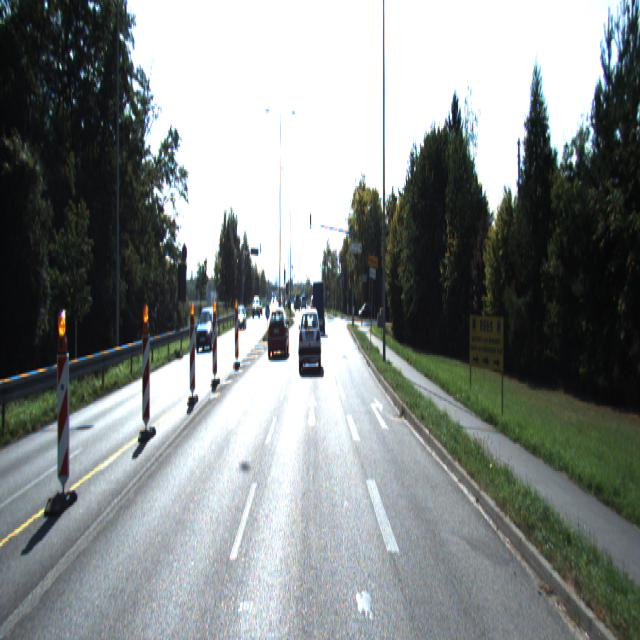Car: (298, 312, 321, 371), (267, 309, 289, 360), (195, 304, 218, 352), (312, 280, 324, 334)
